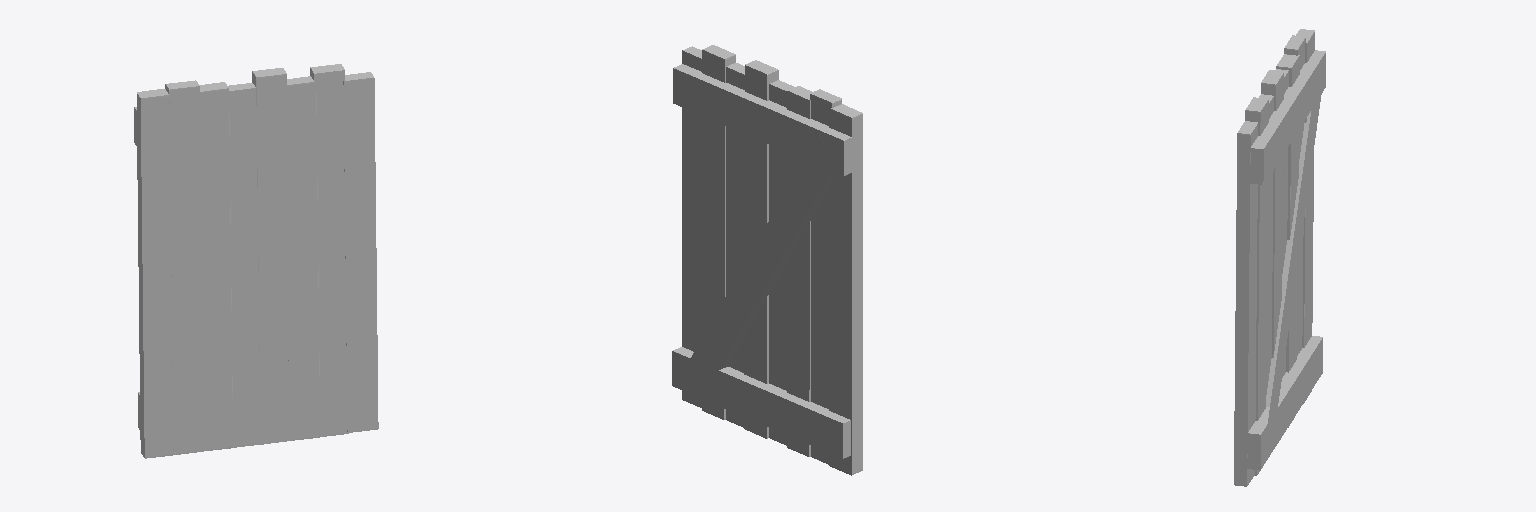
The model's file is PestabloIzq.obj.
3 views of the same model, side by side, from view 1: azimuth 30°, elevation 25°; view 2: azimuth 150°, elevation 25°; view 3: azimuth 270°, elevation 25° (orthographic).
Parts seen in each view (by area): view 1: polySurface1903; view 2: polySurface1903; view 3: polySurface1903.
Part boxes in pixels (left/top/right/bottom): polySurface1903: left=134, top=64, right=378, bottom=458; polySurface1903: left=672, top=45, right=862, bottom=475; polySurface1903: left=1234, top=29, right=1325, bottom=486.
Size of the model in its own units: 0.3353 by 0.5589 by 0.1274.